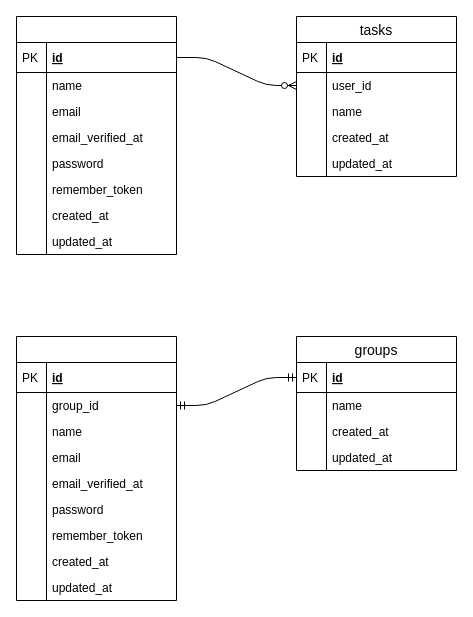
Some shapes in this 473 by 617 pixel diagram are drawn without their labels. The box of each missing label's shape, as (x1, y1, x2, y2) in pixels:
administrators: (16, 336, 176, 600)
users: (16, 16, 176, 254)
